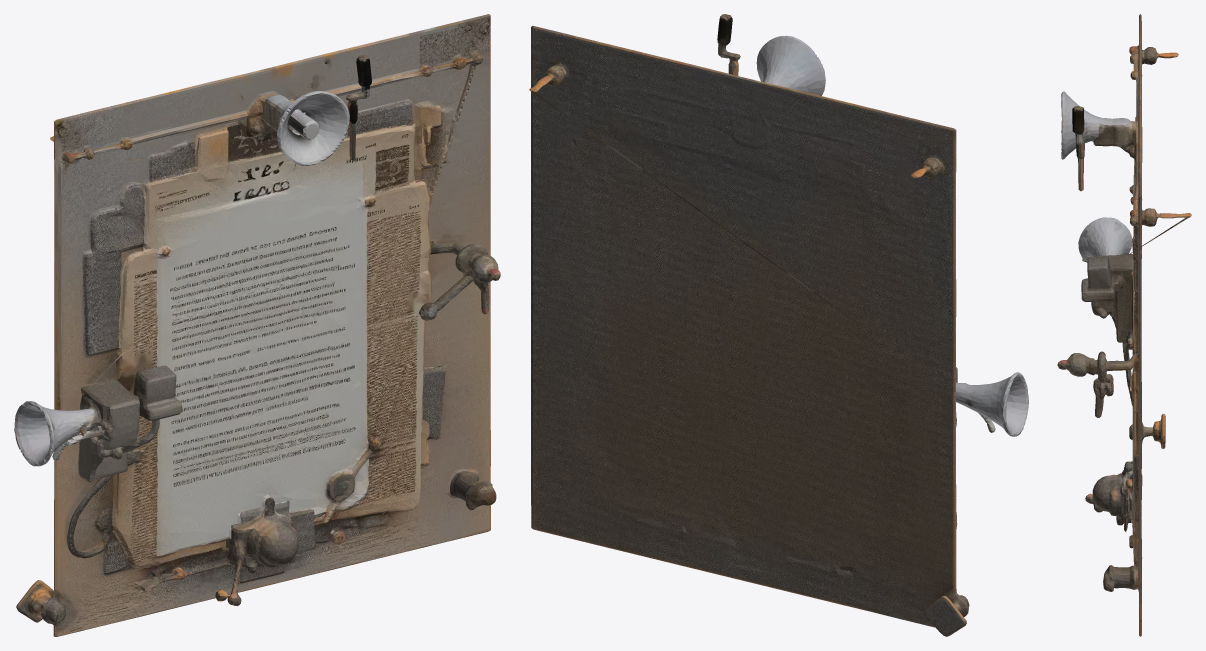
Rendered from tail (40).glb.
The picture shows the model from 3 angles, left to right: view 1: azimuth 30°, elevation 25°; view 2: azimuth 150°, elevation 25°; view 3: azimuth 270°, elevation 25°; orthographic projection. The views are drawn at different scales.
Visible parts, largest first — view 1: Hy21_Mesh.obj; view 2: Hy21_Mesh.obj; view 3: Hy21_Mesh.obj.
Part boxes in pixels (x1=…): Hy21_Mesh.obj: x1=14, y1=14, x2=500, y2=636; Hy21_Mesh.obj: x1=529, y1=14, x2=1028, y2=636; Hy21_Mesh.obj: x1=1057, y1=14, x2=1191, y2=636.
Size of the model in its own units: 1.83 by 1.96 by 0.5145.
Materials: 1 (1 with a texture image).
